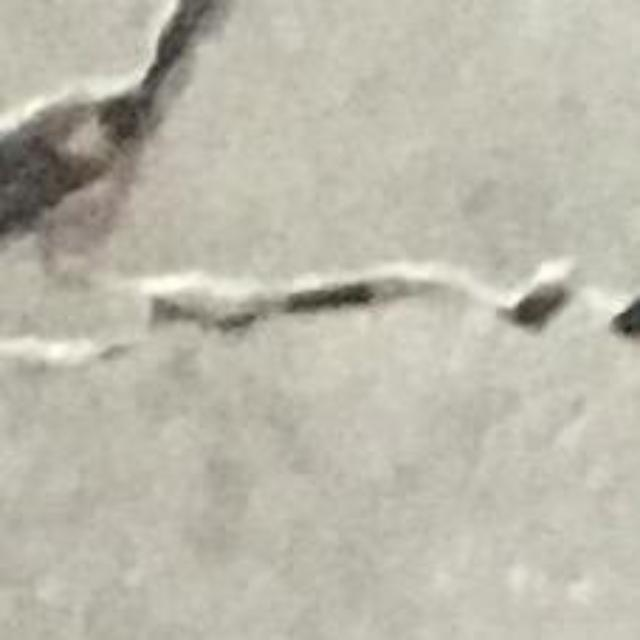crack: (0, 0, 639, 338)
